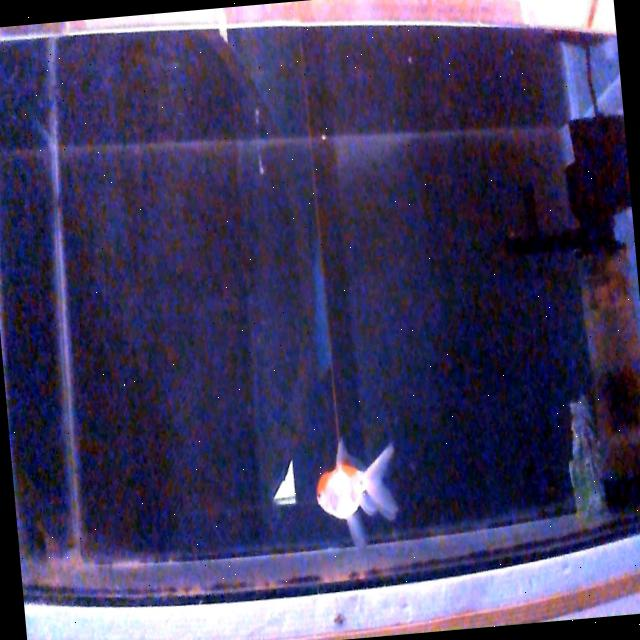fish: (310, 435, 404, 544)
